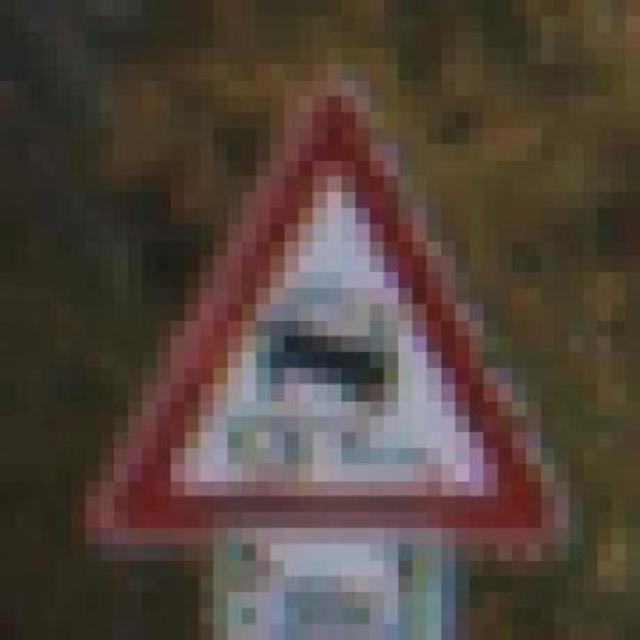Slippery Road Ahead: (85, 64, 583, 576)
